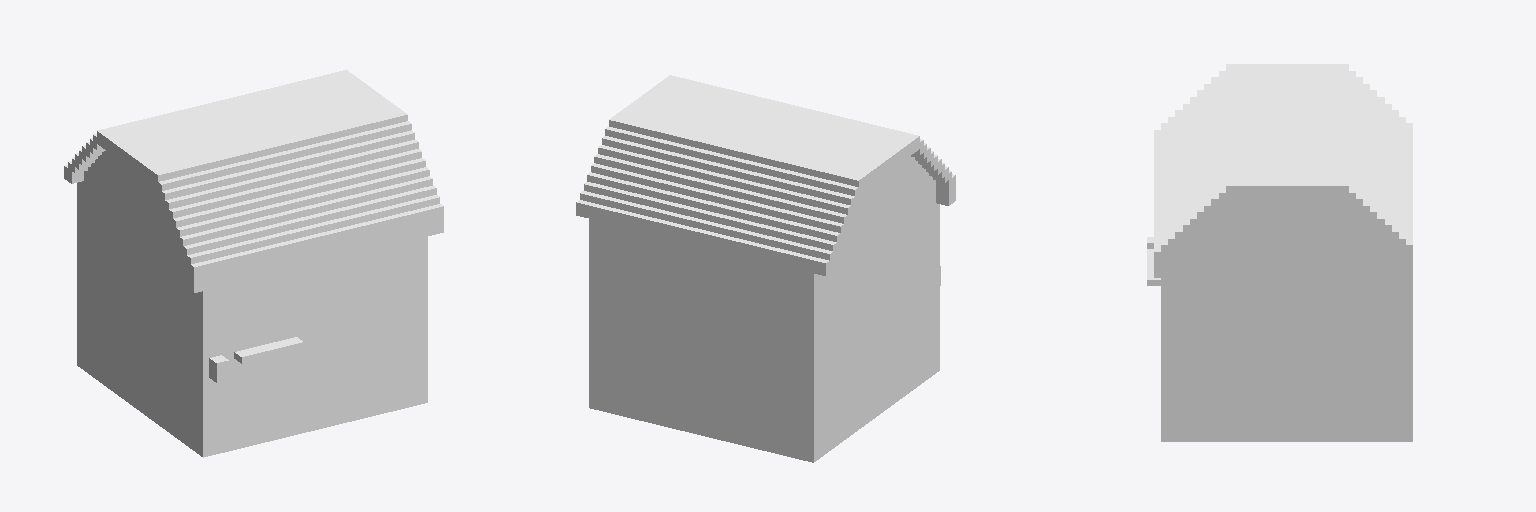
Rendered from shop4.obj.
3 renders of one model, left to right at view 1: azimuth 30°, elevation 25°; view 2: azimuth 150°, elevation 25°; view 3: azimuth 270°, elevation 25°, orthographic.
Parts seen in each view (by area): view 1: object 1; view 2: object 1; view 3: object 1.
Part boxes in pixels (left/top/right/bottom): object 1: left=64, top=70, right=443, bottom=457; object 1: left=576, top=75, right=955, bottom=462; object 1: left=1147, top=64, right=1412, bottom=441.
Bounding box in the file's own units: 4 × 4 × 3.7.